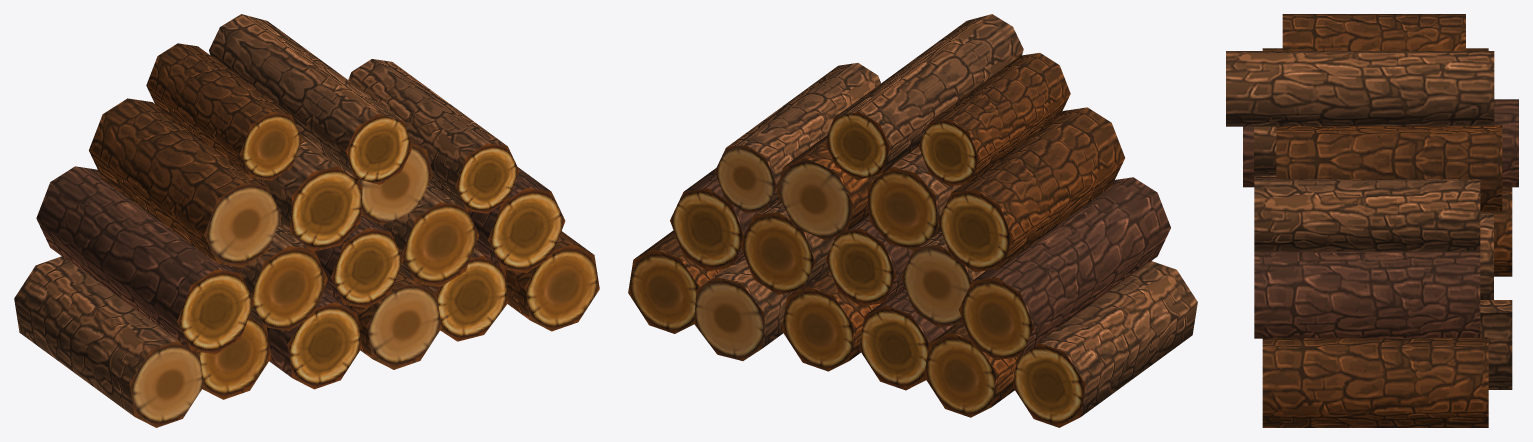
File: woodPile_B.fbx
The picture shows the model from 3 angles, left to right: view 1: azimuth 30°, elevation 25°; view 2: azimuth 150°, elevation 25°; view 3: azimuth 270°, elevation 25°; orthographic projection. The views are drawn at different scales.
Parts seen in each view (by area): view 1: woodPile_B; view 2: woodPile_B; view 3: woodPile_B.
Boxes of the visible parts, x1,y1,x2,y2 form: woodPile_B: (14,14,599,427); woodPile_B: (628,14,1197,427); woodPile_B: (1226,14,1518,427).
Size of the model in its own units: 132 by 74.89 by 72.88.
